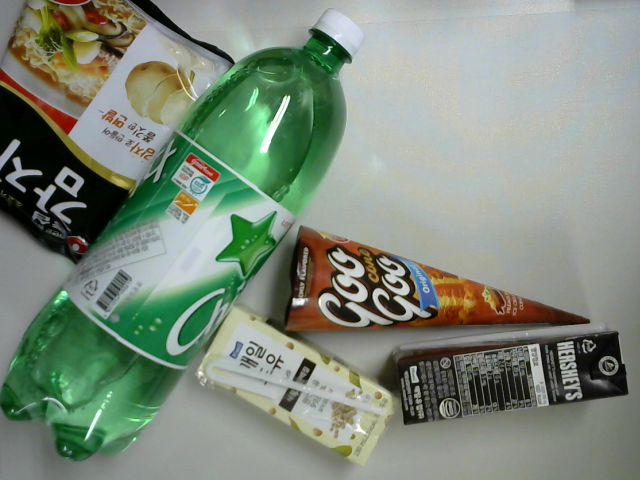99.89_Soymilk: (191, 302, 397, 475)
Chilseong_Cider_1.5L: (1, 5, 375, 466)
GooGoo_Cone_CVS: (271, 222, 599, 337)
Hush_Choco_Drink: (384, 319, 632, 435)
Potato: (3, 1, 240, 272)
